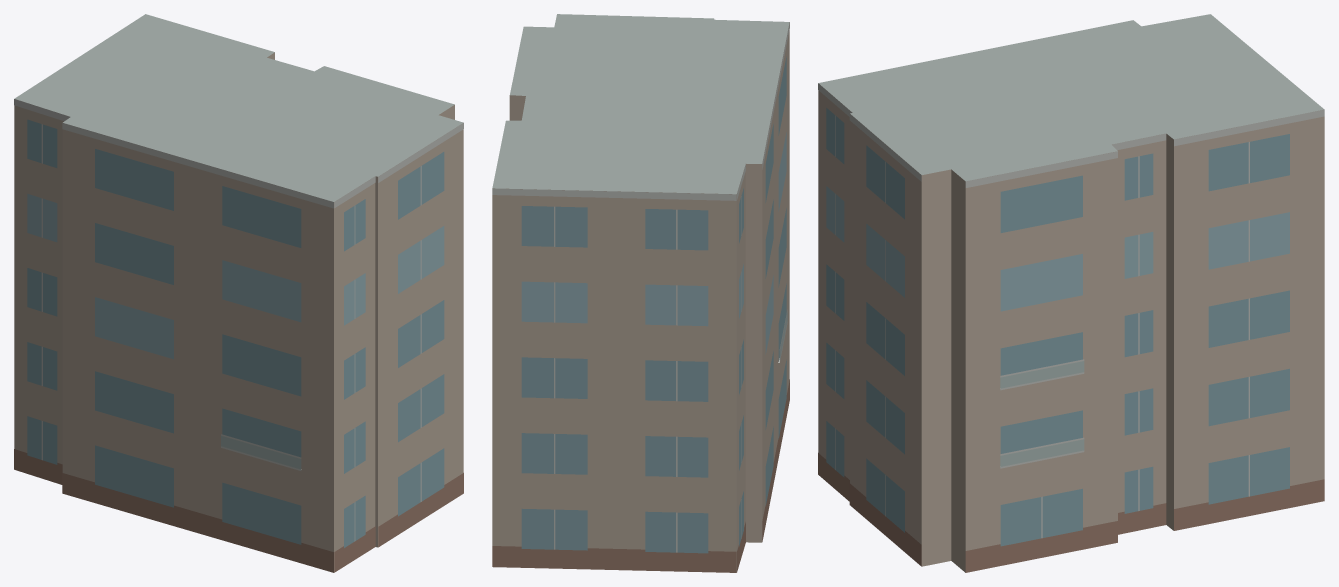
File: survey-upis-32958920.glb
The picture shows the model from 3 angles, left to right: view 1: azimuth 30°, elevation 25°; view 2: azimuth 150°, elevation 25°; view 3: azimuth 270°, elevation 25°; orthographic projection. The views are drawn at different scales.
Parts seen in each view (by area): view 1: survey-upis-32958920.tmp; view 2: survey-upis-32958920.tmp; view 3: survey-upis-32958920.tmp.
Part boxes in pixels (box(x1,y1,x2,y2)): survey-upis-32958920.tmp: box(14, 14, 463, 572); survey-upis-32958920.tmp: box(492, 14, 789, 572); survey-upis-32958920.tmp: box(818, 14, 1324, 572).
Bounding box in the file's own units: 12.75 × 13.9 × 16.3.
